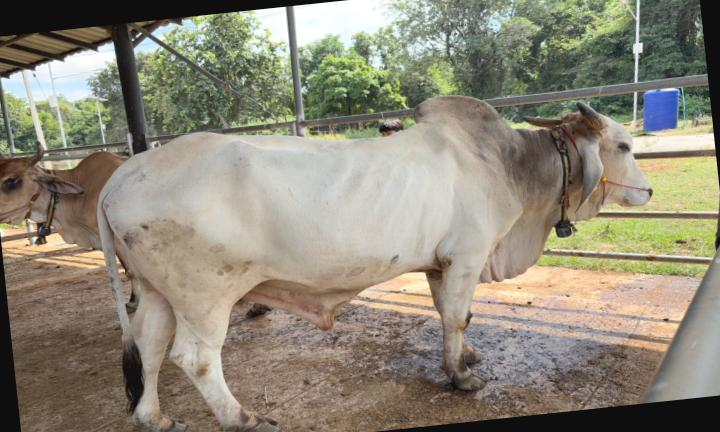Brahman: (97, 96, 650, 432)
